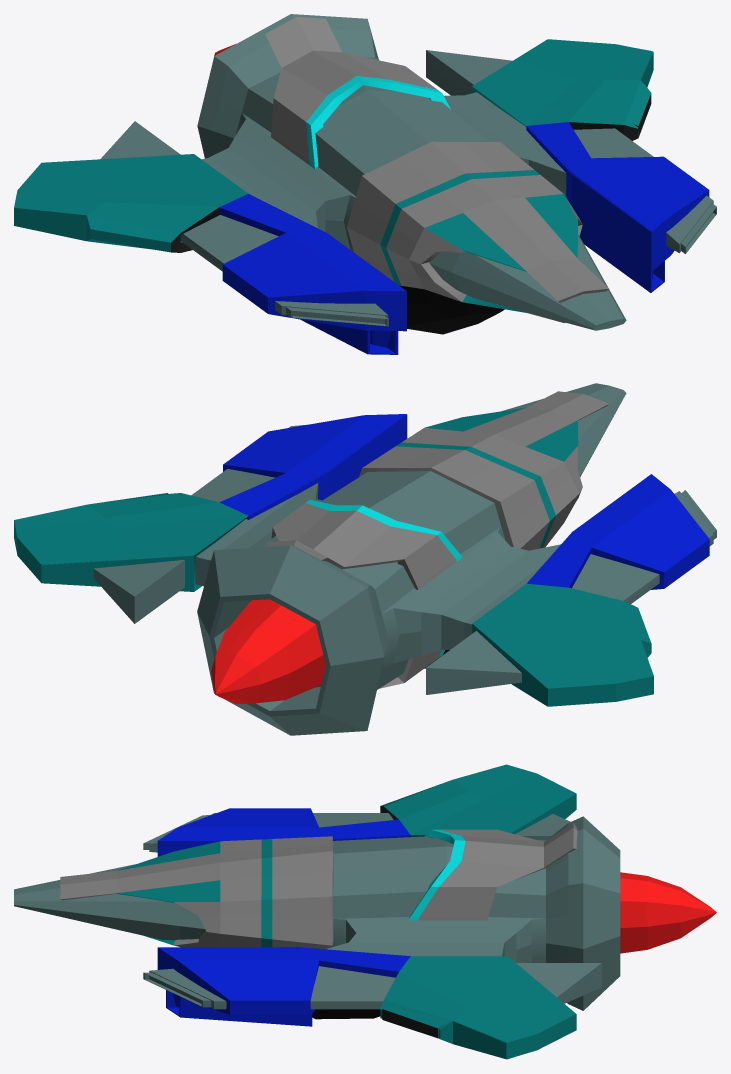
Rendered from Player Ship.FBX.
3 views of the same model, one above another, from view 1: azimuth 30°, elevation 25°; view 2: azimuth 150°, elevation 25°; view 3: azimuth 270°, elevation 25° (orthographic). The views are drawn at different scales.
Parts seen in each view (by area): view 1: Box004; view 2: Box004; view 3: Box004.
Part boxes in pixels (x1=…): Box004: x1=14, y1=14, x2=716, y2=354; Box004: x1=14, y1=383, x2=716, y2=735; Box004: x1=14, y1=764, x2=716, y2=1059.
Size of the model in its own units: 620 by 198 by 661.
